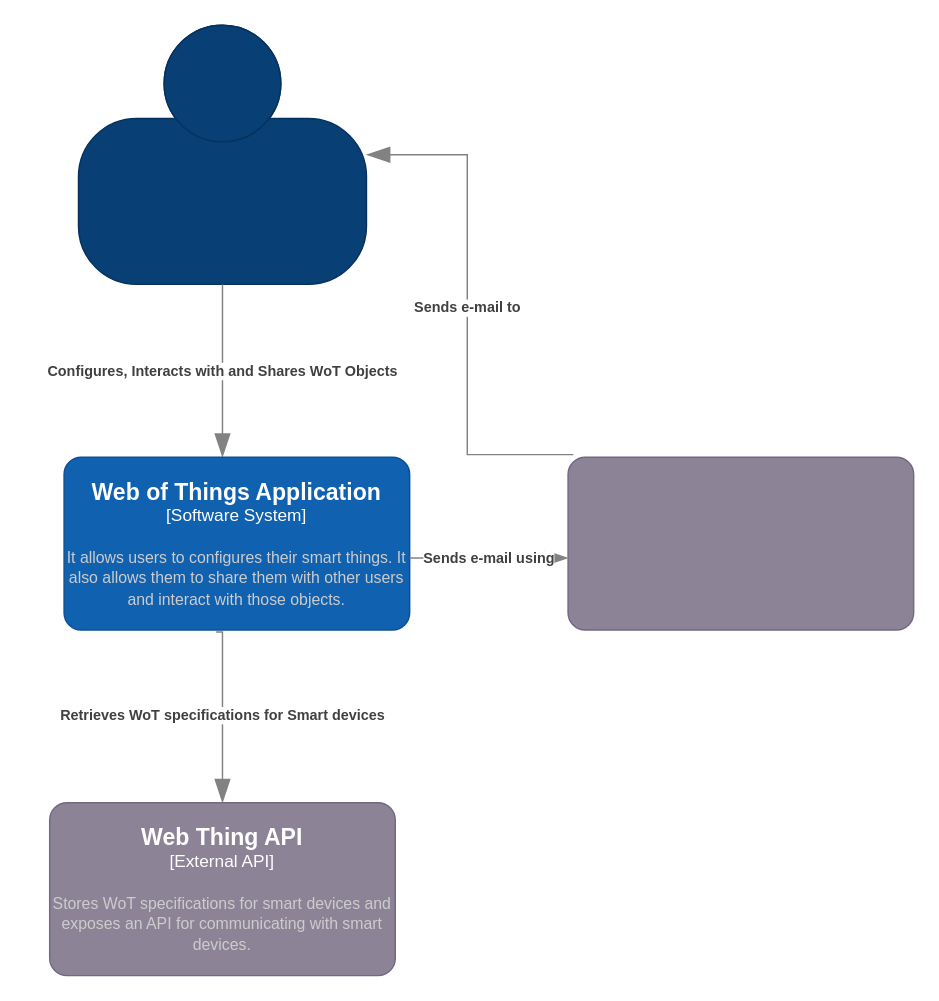
The diagram is 939 pixels wide and 1001 high, and some of its shapes have lost their labels. The shapes that lost their labels are listed below. From the top down, each one's centre as x and y in pixels, then its label:
At point 221,154: "Application User [Person] A person who wants to interact with nearby WoT Objects".
At point 740,543: "E-mail System [Software System] The external E-mail Application e-mail system".
